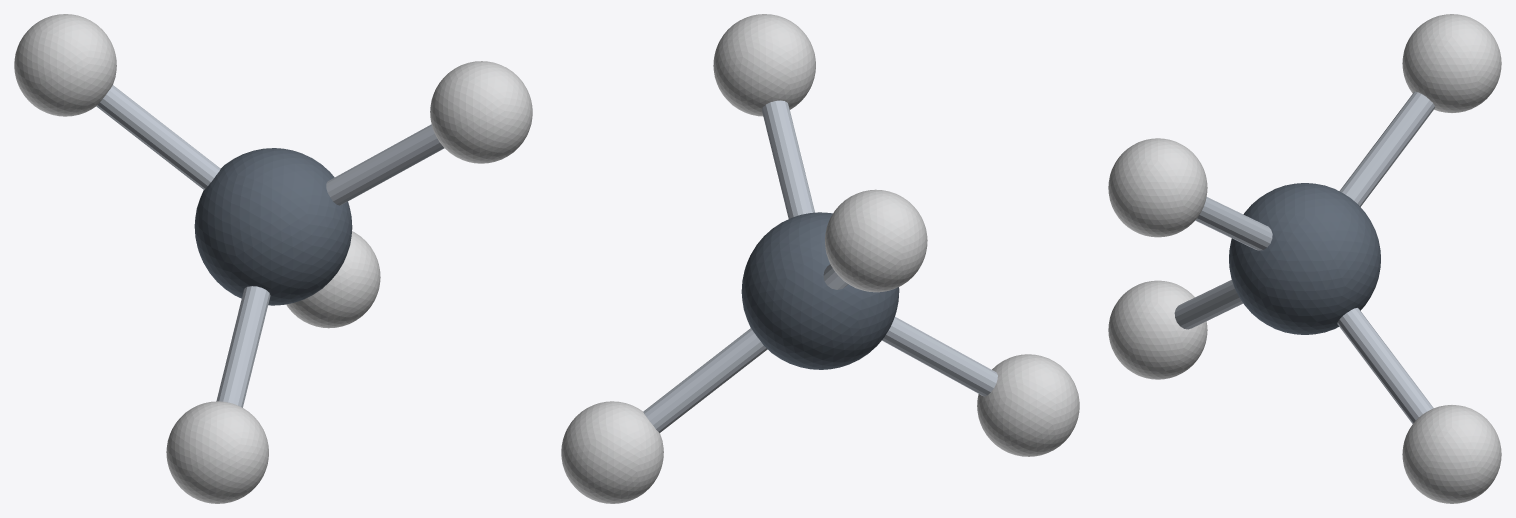
Rendered from molecula.glb.
The picture shows the model from 3 angles, left to right: view 1: azimuth 30°, elevation 25°; view 2: azimuth 150°, elevation 25°; view 3: azimuth 270°, elevation 25°; orthographic projection. The views are drawn at different scales.
Visible parts, largest first — view 1: 1_C, world, 2_H, 3_H, 4_H, 5_H; view 2: 1_C, world, 4_H, 5_H, 3_H, 2_H; view 3: 1_C, world, 2_H, 5_H, 4_H, 3_H.
Boxes of the visible parts, x1,y1,x2,y2 form: 1_C: (194,148,352,305); world: (96,85,444,407); 2_H: (430,61,532,163); 3_H: (166,401,268,503); 4_H: (14,14,116,116); 5_H: (286,231,380,328); 1_C: (741,212,899,369); world: (643,100,997,432); 4_H: (825,189,927,292); 5_H: (561,401,663,503); 3_H: (977,354,1079,456); 2_H: (713,14,815,116); 1_C: (1229,183,1380,334); world: (1174,91,1435,423); 2_H: (1108,138,1207,237); 5_H: (1402,405,1501,503); 4_H: (1402,14,1501,112); 3_H: (1108,280,1207,379).
Bounding box in the file's own units: 2.22 × 2.22 × 2.22.
